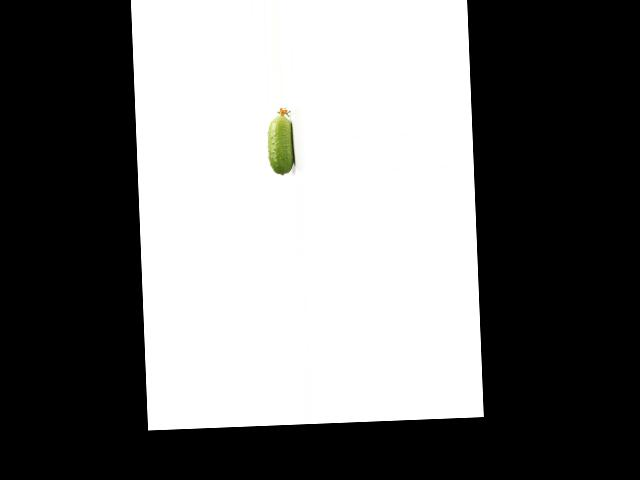cucumber: (266, 108, 295, 176)
